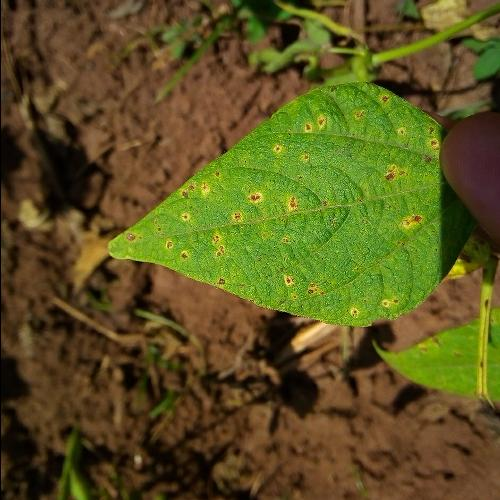hawar: (373, 90, 440, 263), (206, 181, 305, 262), (157, 162, 228, 264), (256, 96, 360, 162), (258, 274, 410, 318)
